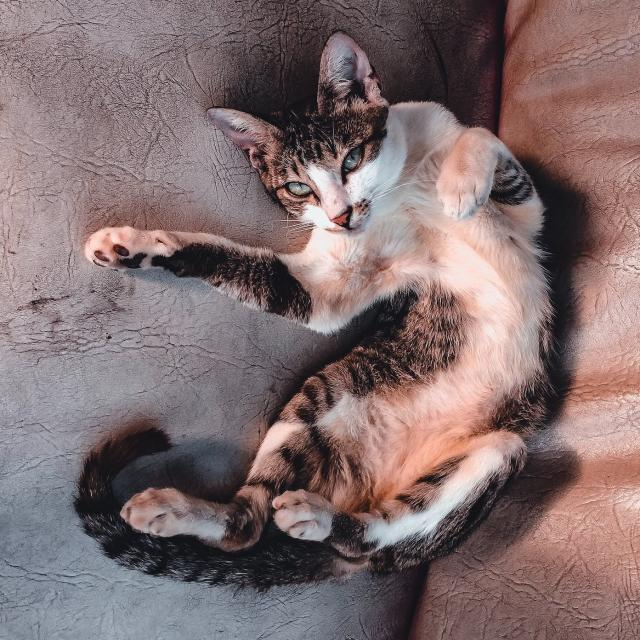cat: (79, 34, 565, 599)
